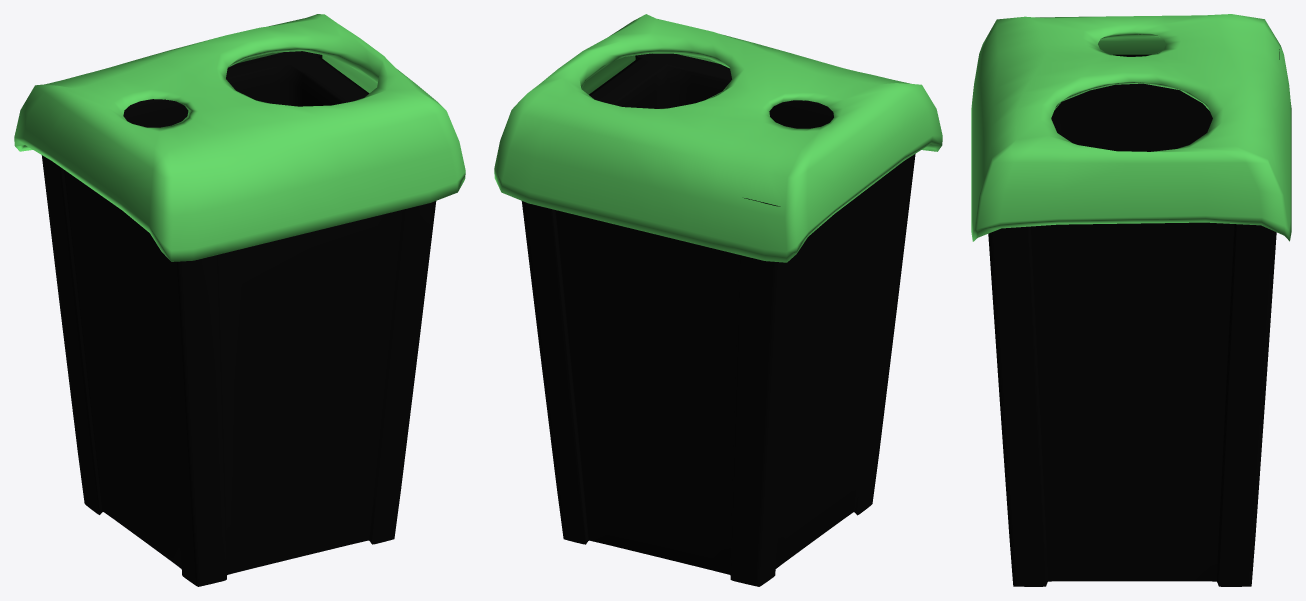
Rendered from green_bin.fbx.
The picture shows the model from 3 angles, left to right: view 1: azimuth 30°, elevation 25°; view 2: azimuth 150°, elevation 25°; view 3: azimuth 270°, elevation 25°; orthographic projection. The views are drawn at different scales.
Parts seen in each view (by area): view 1: green_bin:pCube96; view 2: green_bin:pCube96; view 3: green_bin:pCube96.
Boxes of the visible parts, x1=… form: green_bin:pCube96: x1=14, y1=14, x2=465, y2=586; green_bin:pCube96: x1=494, y1=14, x2=942, y2=586; green_bin:pCube96: x1=971, y1=14, x2=1291, y2=586.
Size of the model in its own units: 7.81 by 10.6 by 6.72.
